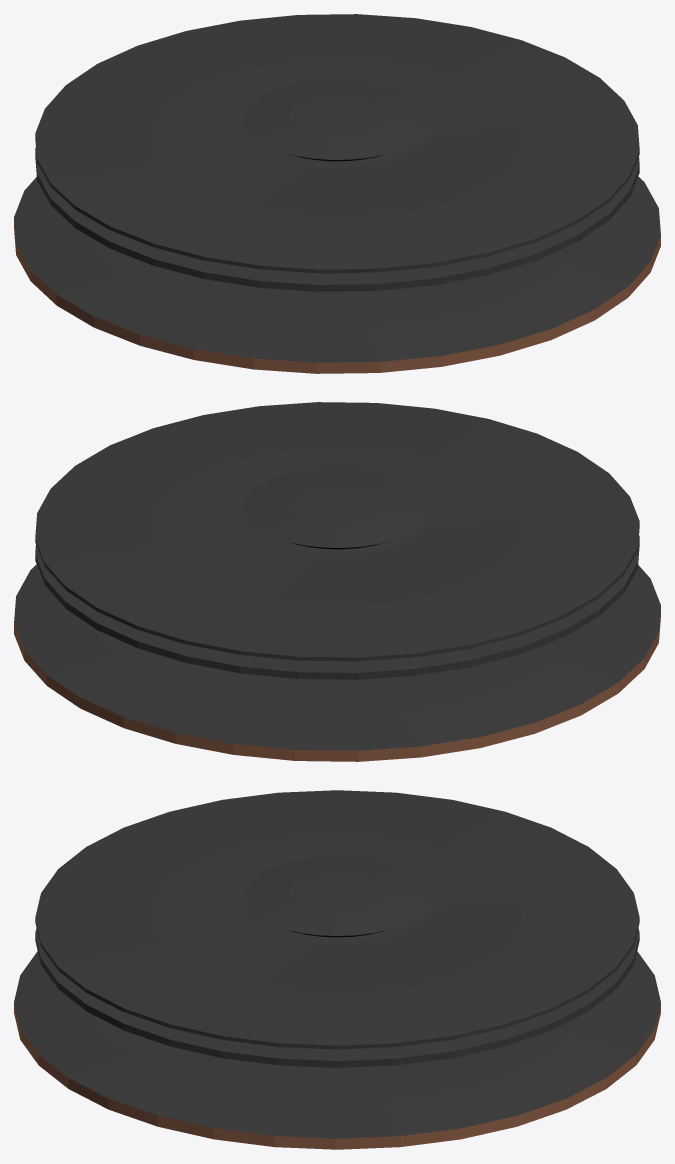
File: Lantern.fbx
The picture shows the model from 3 angles, top to bottom: view 1: azimuth 30°, elevation 25°; view 2: azimuth 150°, elevation 25°; view 3: azimuth 270°, elevation 25°; orthographic projection.
Parts seen in each view (by area): view 1: Cylinder.005; view 2: Cylinder.005; view 3: Cylinder.005.
Boxes of the visible parts, bbox=[...] form: Cylinder.005: bbox=[14, 14, 660, 373]; Cylinder.005: bbox=[14, 402, 660, 761]; Cylinder.005: bbox=[14, 790, 660, 1149].
Size of the model in its own units: 23.04 by 4.74 by 23.04.
